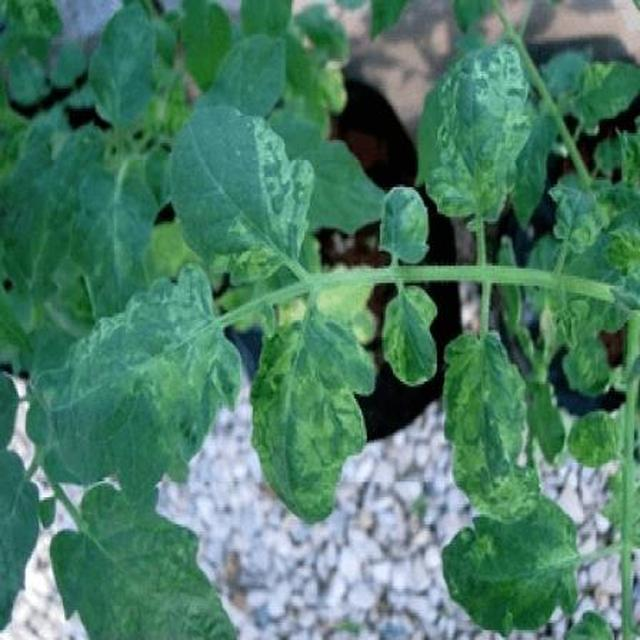Mosaic Virus Leaf: (83, 126, 640, 640)
